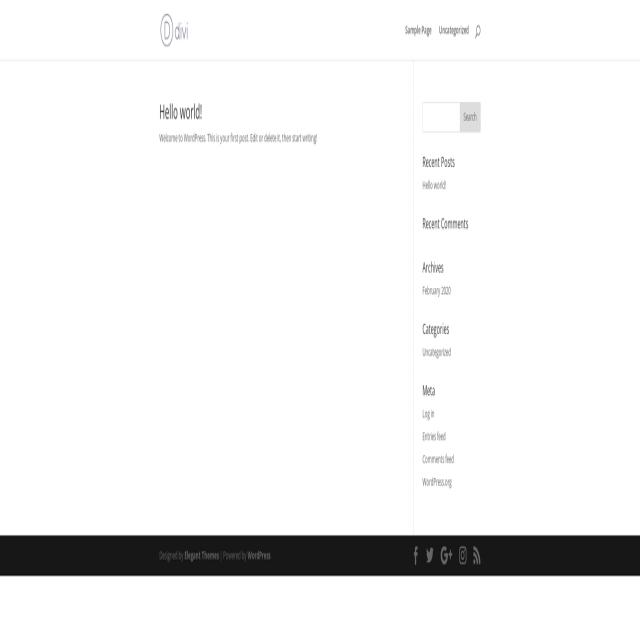button: (436, 14, 471, 50), (403, 14, 434, 50), (160, 14, 188, 46), (460, 101, 480, 132), (470, 540, 483, 570), (472, 16, 484, 47), (439, 542, 452, 569), (424, 542, 436, 570), (457, 541, 468, 569), (410, 542, 420, 569)
field: (423, 101, 481, 132)
